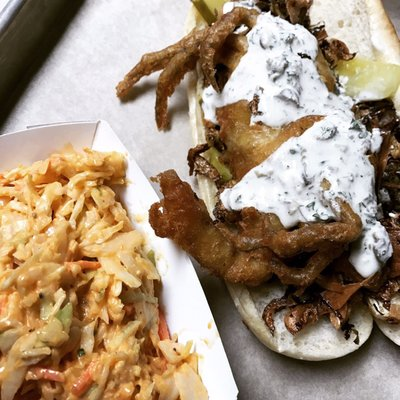soup: (146, 3, 400, 372), (0, 134, 211, 399)
